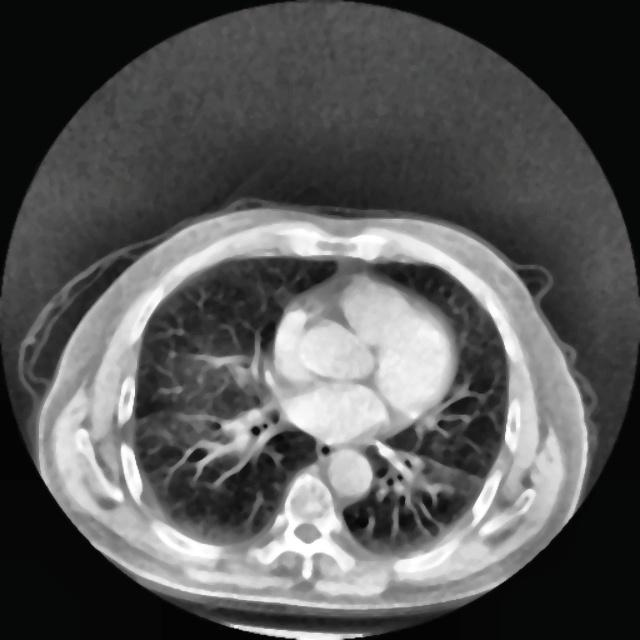covid: (17, 199, 592, 634)
